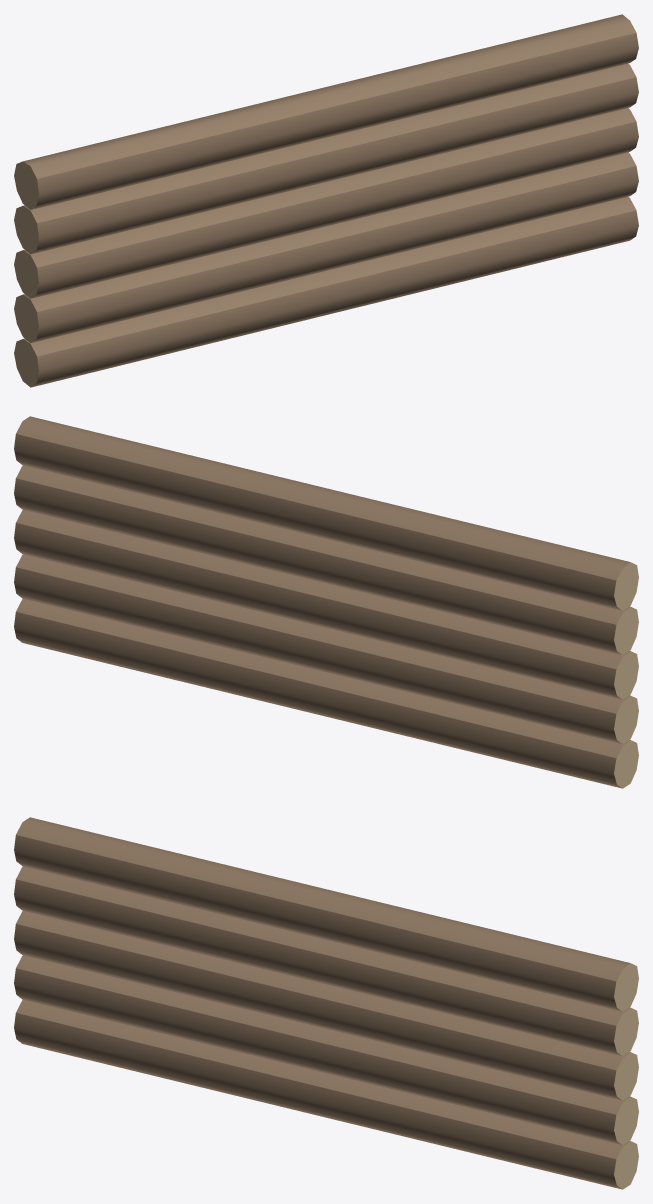
Rendered from log_wall_diagonal_half.glb.
3 renders of one model, top to bottom at view 1: azimuth 30°, elevation 25°; view 2: azimuth 150°, elevation 25°; view 3: azimuth 330°, elevation 25°, orthographic.
Visible parts, largest first — view 1: Wall; view 2: Wall; view 3: Wall.
Boxes of the visible parts, x1=… form: Wall: x1=14, y1=14, x2=638, y2=387; Wall: x1=14, y1=416, x2=638, y2=788; Wall: x1=14, y1=817, x2=638, y2=1189.
Size of the model in its own units: 4.24 by 1.5 by 0.3116.
